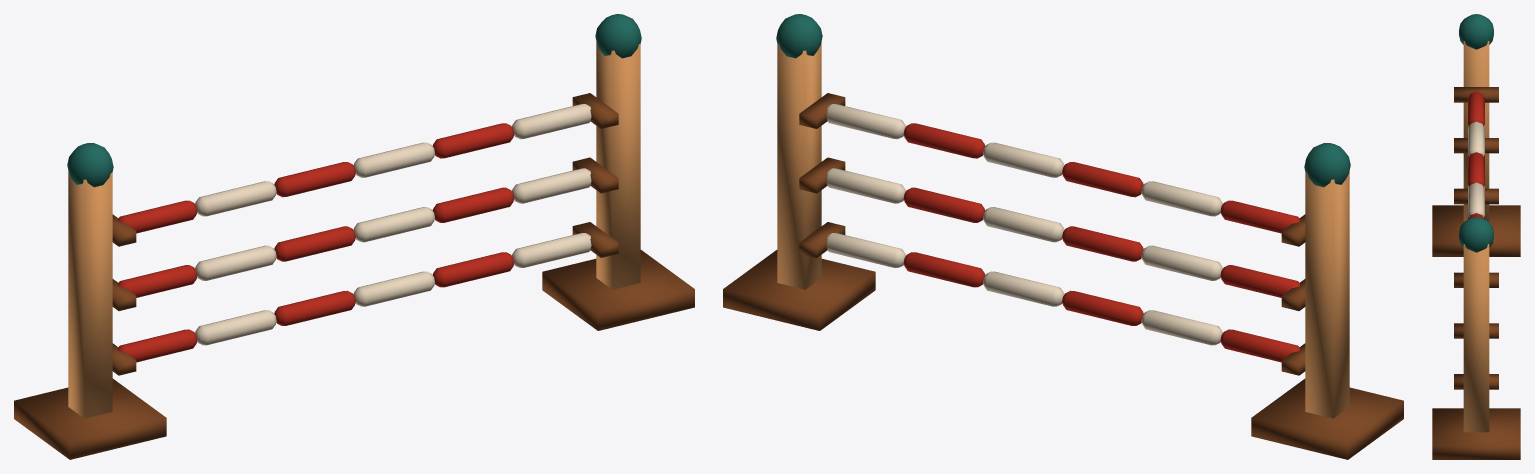
File: hindernis_c.glb
3 renders of one model, left to right at view 1: azimuth 30°, elevation 25°; view 2: azimuth 150°, elevation 25°; view 3: azimuth 270°, elevation 25°, orthographic. The views are drawn at different scales.
Visible parts, largest first — view 1: RanchHindernisC; view 2: RanchHindernisC; view 3: RanchHindernisC.
Part boxes in pixels (x1=…): RanchHindernisC: x1=14, y1=14, x2=694, y2=459; RanchHindernisC: x1=723, y1=14, x2=1403, y2=459; RanchHindernisC: x1=1432, y1=14, x2=1520, y2=459.
Size of the model in its own units: 3.55 by 1.53 by 0.55.
1 material, 1 textured.
